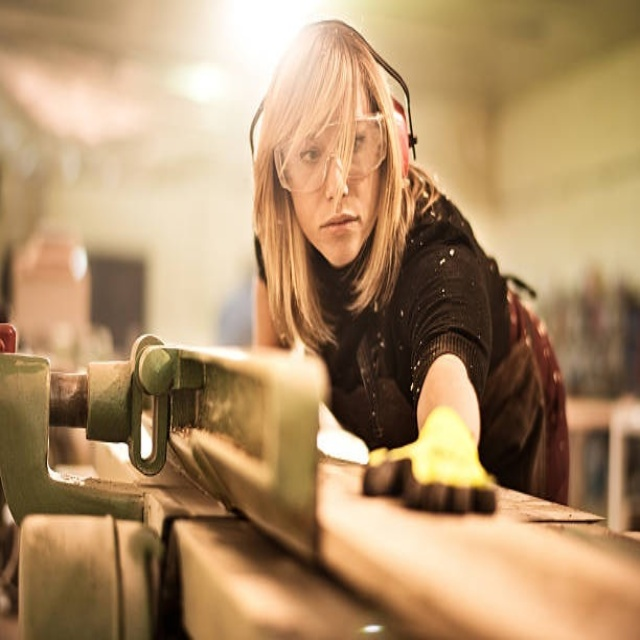Gafas: (273, 112, 389, 193)
Guantes: (365, 406, 499, 512)
Sin_mascara: (310, 204, 362, 259)
